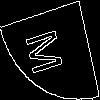M: (25, 24, 71, 77)
